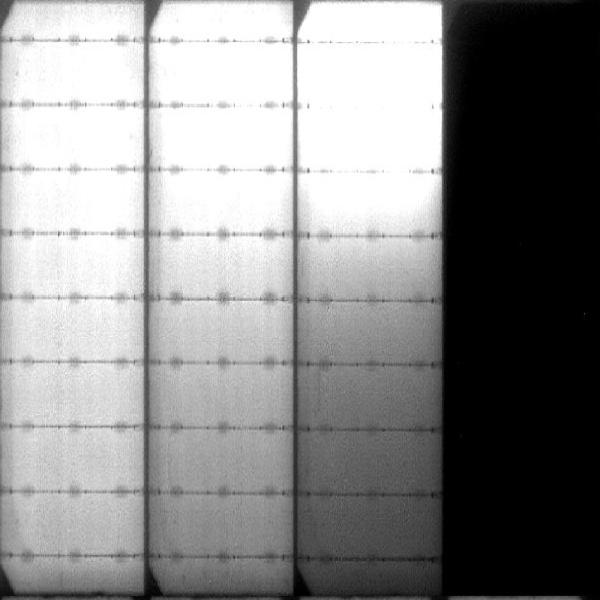hot_spot: (308, 115, 437, 165), (163, 113, 288, 163), (307, 48, 434, 97), (168, 52, 282, 97), (26, 116, 124, 161), (310, 7, 440, 38), (315, 178, 425, 208), (176, 176, 277, 206), (74, 176, 128, 220), (73, 49, 124, 92)
no_electricity: (449, 1, 596, 594)
